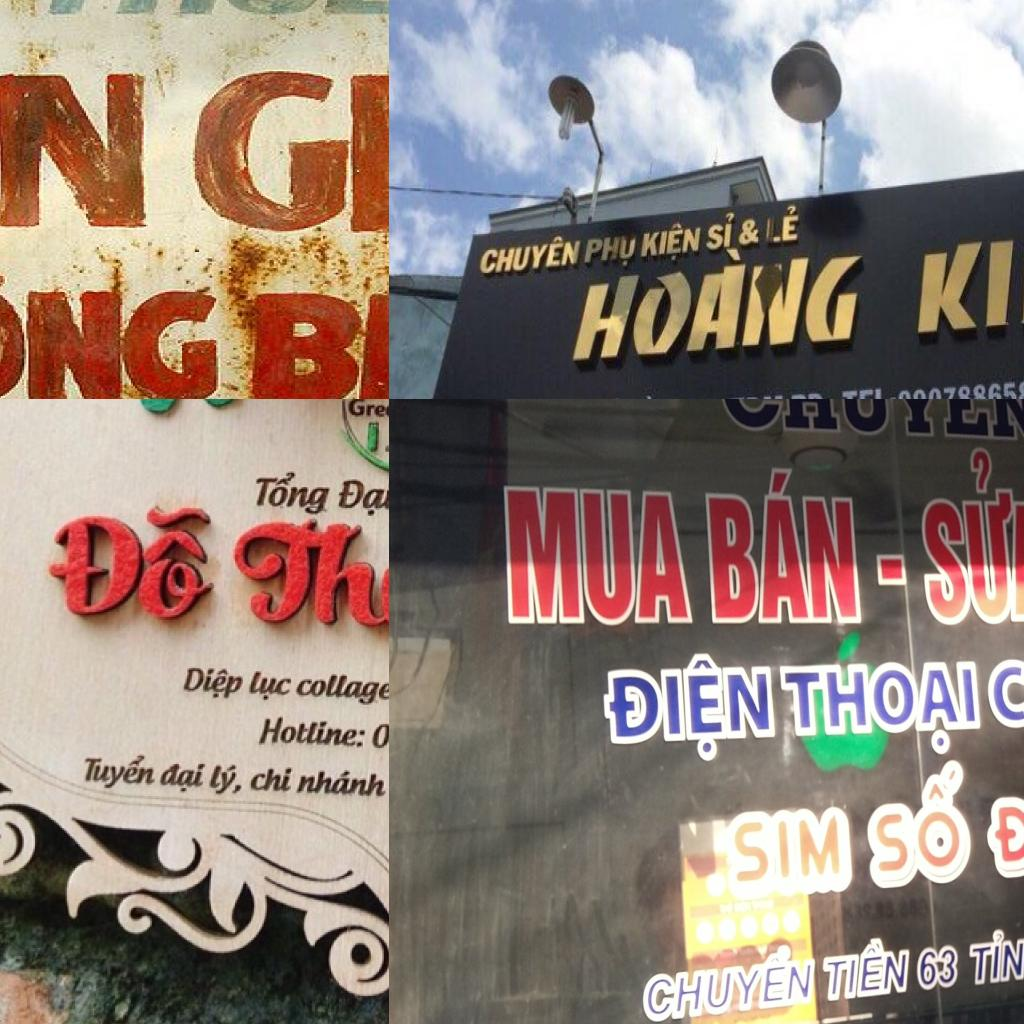text: (190, 18, 389, 234), (570, 244, 870, 367), (0, 252, 218, 399), (490, 476, 698, 629), (0, 39, 148, 234), (225, 509, 389, 682), (706, 457, 868, 627), (44, 490, 218, 632), (774, 652, 989, 764), (596, 646, 781, 770), (910, 449, 1024, 633), (623, 933, 818, 1024), (866, 757, 979, 901), (706, 794, 856, 900), (248, 292, 389, 399), (722, 399, 1024, 444), (916, 231, 1024, 336), (819, 926, 913, 1010), (983, 766, 1024, 905), (256, 713, 368, 754), (478, 234, 583, 276), (980, 642, 1024, 739), (963, 923, 1024, 992), (251, 468, 336, 514), (76, 750, 160, 796), (292, 669, 389, 708), (295, 763, 389, 802), (177, 662, 248, 706), (917, 935, 968, 996), (897, 377, 1024, 399), (640, 221, 704, 264), (335, 476, 389, 519), (244, 665, 298, 705), (156, 758, 210, 796), (584, 233, 637, 270), (874, 543, 913, 586), (766, 202, 802, 246), (206, 758, 245, 796), (248, 764, 296, 793), (706, 211, 737, 253), (687, 391, 825, 399), (346, 399, 389, 418), (841, 385, 897, 399), (736, 217, 762, 247)
